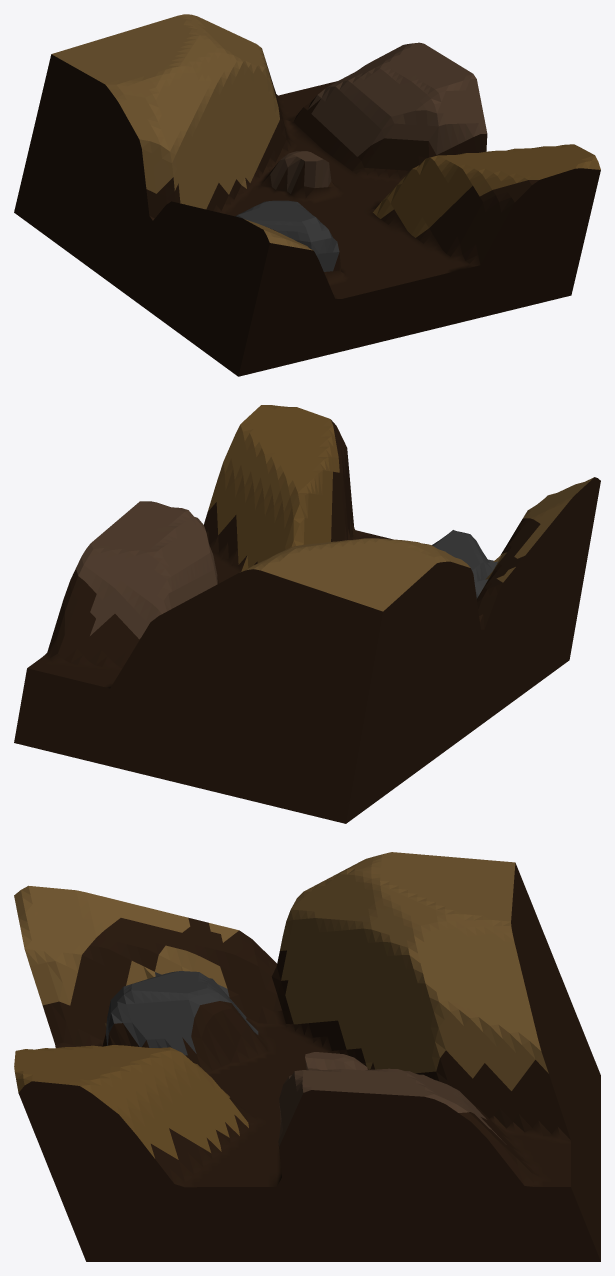
The model's file is ixm_boss_239.glb.
The picture shows the model from 3 angles, top to bottom: view 1: azimuth 30°, elevation 25°; view 2: azimuth 150°, elevation 25°; view 3: azimuth 270°, elevation 25°; orthographic projection. The views are drawn at different scales.
Visible parts, largest first — view 1: ixm_boss_239; view 2: ixm_boss_239; view 3: ixm_boss_239.
Boxes of the visible parts, left/top/right/bottom form: ixm_boss_239: left=14, top=14, right=600, bottom=376; ixm_boss_239: left=14, top=405, right=600, bottom=823; ixm_boss_239: left=14, top=852, right=600, bottom=1261.
Bounding box in the file's own units: 24 × 13.79 × 31.93.
